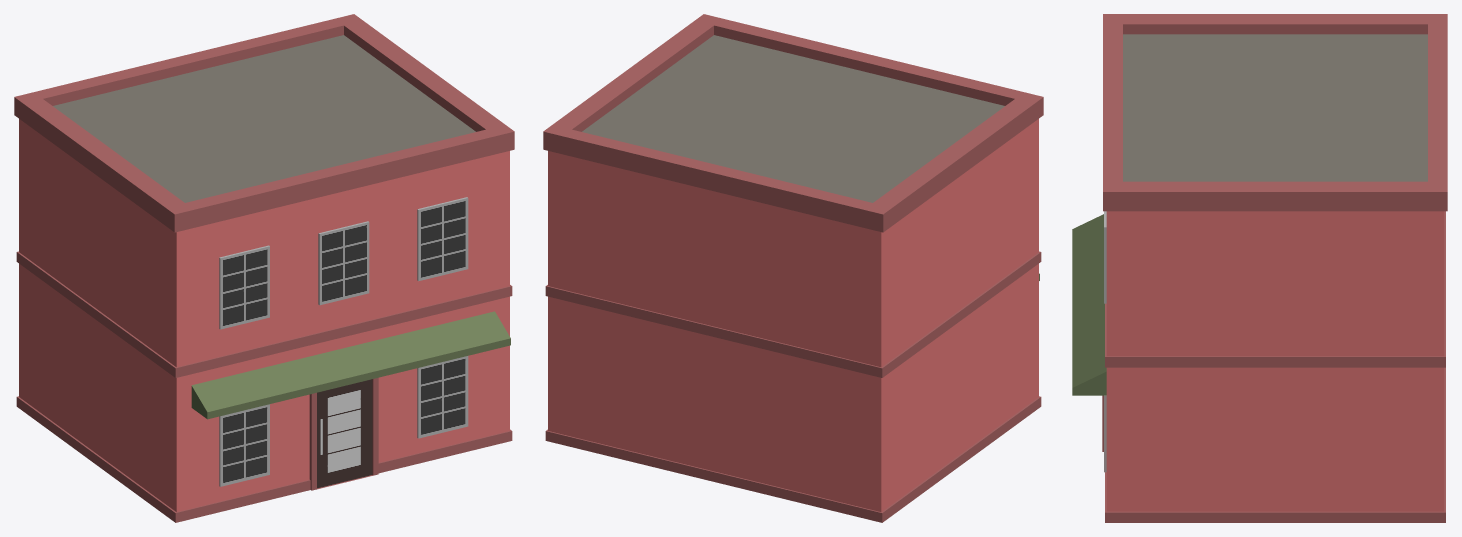
Rendered from Buliding_Pink.fbx.
3 renders of one model, left to right at view 1: azimuth 30°, elevation 25°; view 2: azimuth 150°, elevation 25°; view 3: azimuth 270°, elevation 25°, orthographic. The views are drawn at different scales.
Parts seen in each view (by area): view 1: polySurface73; view 2: polySurface73; view 3: polySurface73.
Part boxes in pixels (bbox=[...]): polySurface73: bbox=[14, 14, 514, 522]; polySurface73: bbox=[543, 14, 1043, 522]; polySurface73: bbox=[1072, 14, 1447, 522].
Bounding box in the file's own units: 33.66 × 29.27 × 30.
1 material, 1 textured.
